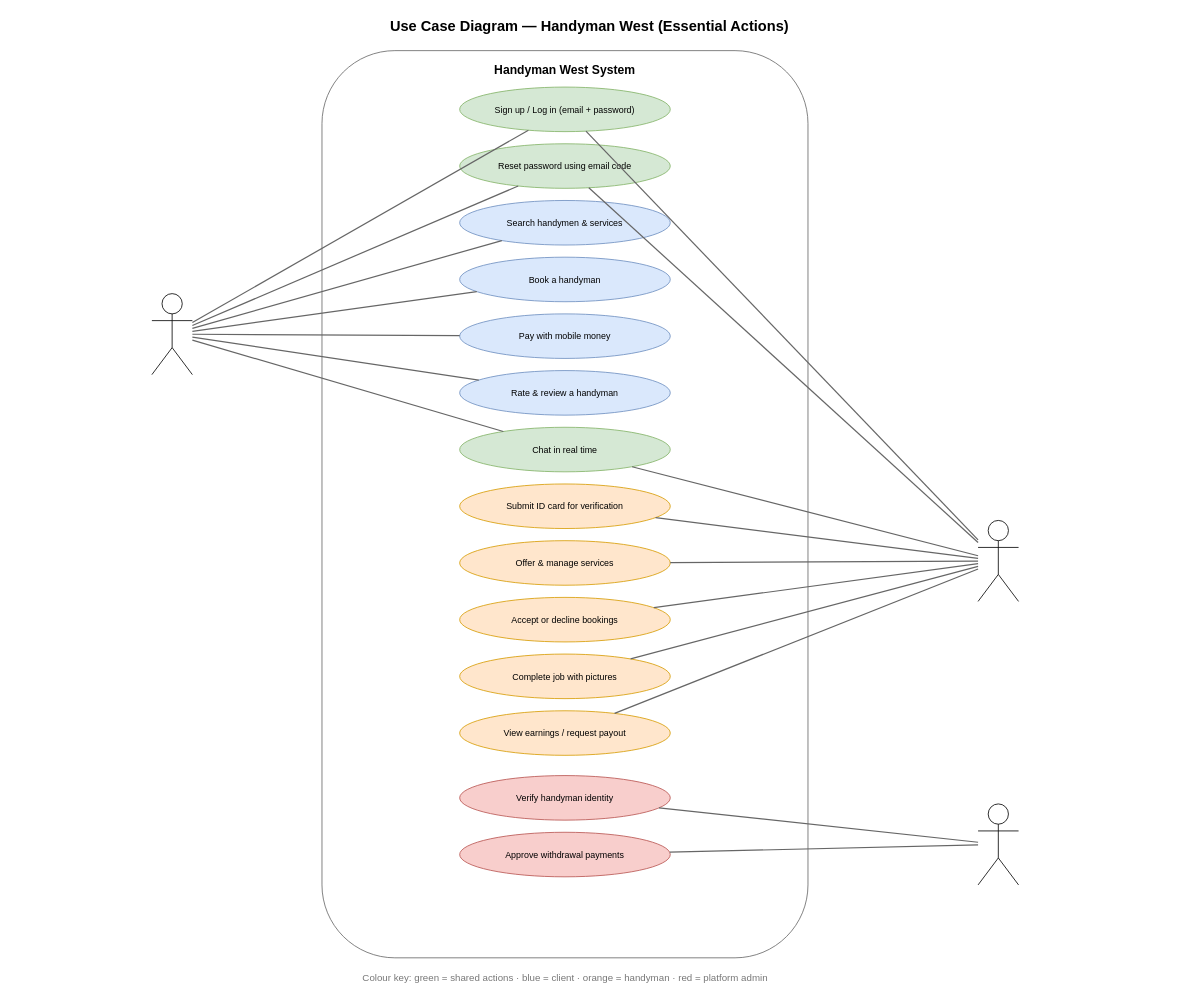
Image size: 1178x1004. Some labels were removed from this diagram. Here are the shapes that lost their labels. From the top down, the centre of each, then its label:
the point at 171,334: Client
the point at 998,560: Handyman
the point at 998,844: Admin
